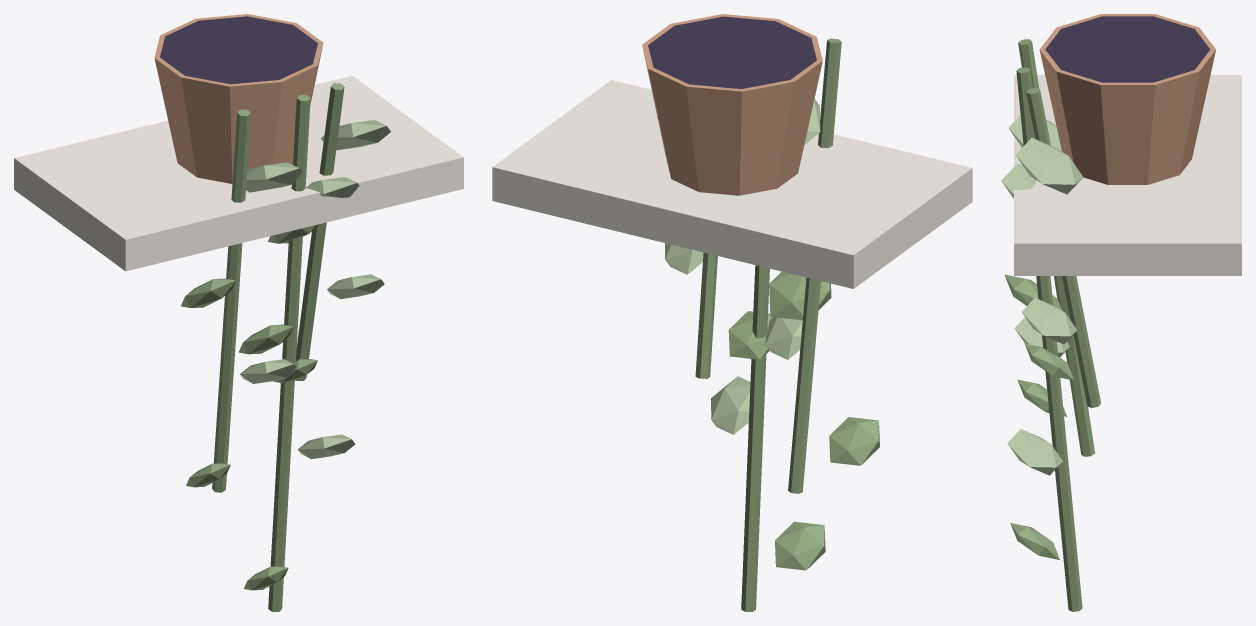
Rendered from deco_pothos_01.glb.
3 renders of one model, left to right at view 1: azimuth 30°, elevation 25°; view 2: azimuth 150°, elevation 25°; view 3: azimuth 270°, elevation 25°, orthographic. The views are drawn at different scales.
Parts seen in each view (by area): view 1: deco_pothos_01; view 2: deco_pothos_01; view 3: deco_pothos_01.
Boxes of the visible parts, x1,y1,x2,y2 form: deco_pothos_01: (14,14,463,611); deco_pothos_01: (492,14,972,611); deco_pothos_01: (1001,14,1241,611).
Size of the model in its own units: 0.28 by 0.4296 by 0.1689.
